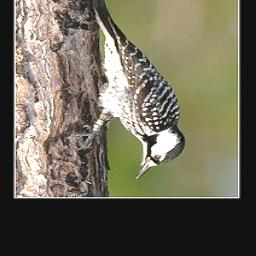Woodpecker: (69, 0, 186, 180)
